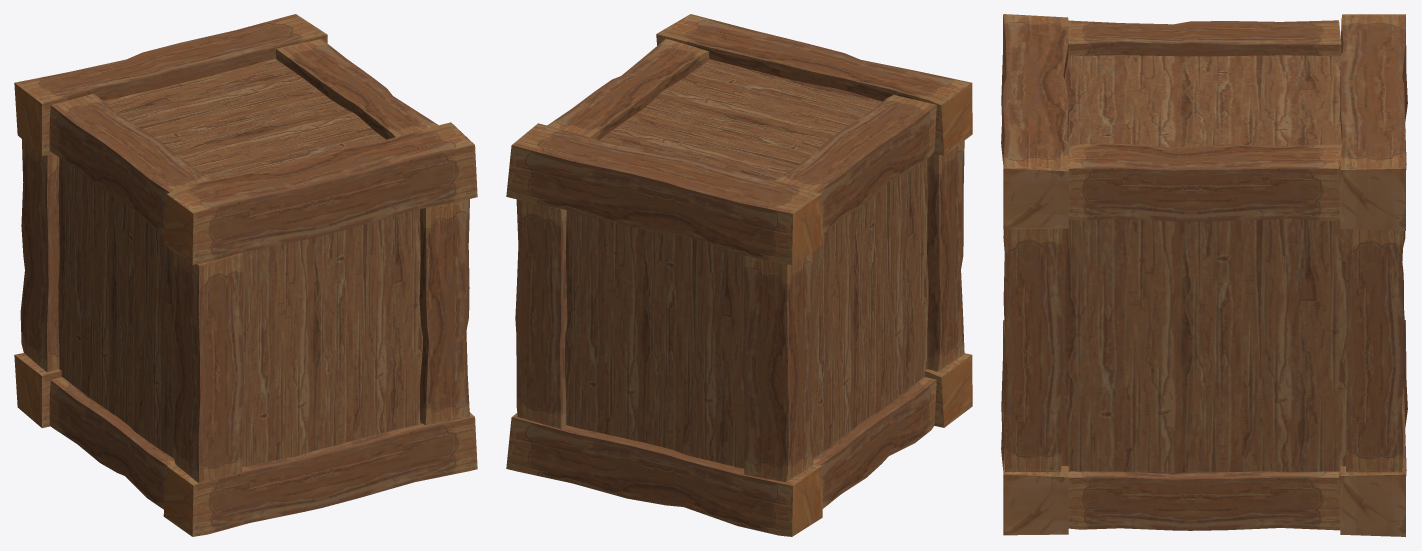
Rendered from SM_Farm_Box_01.fbx.
3 views of the same model, side by side, from view 1: azimuth 30°, elevation 25°; view 2: azimuth 150°, elevation 25°; view 3: azimuth 270°, elevation 25° (orthographic). The views are drawn at different scales.
Parts seen in each view (by area): view 1: SM_Farm_Box_01_LOD0; view 2: SM_Farm_Box_01_LOD0; view 3: SM_Farm_Box_01_LOD0.
Part boxes in pixels (box(x1,y1,x2,y2)): SM_Farm_Box_01_LOD0: box(14, 14, 477, 536); SM_Farm_Box_01_LOD0: box(506, 14, 972, 536); SM_Farm_Box_01_LOD0: box(1001, 14, 1407, 536).
Size of the model in its own units: 83.87 by 91.44 by 91.32.
